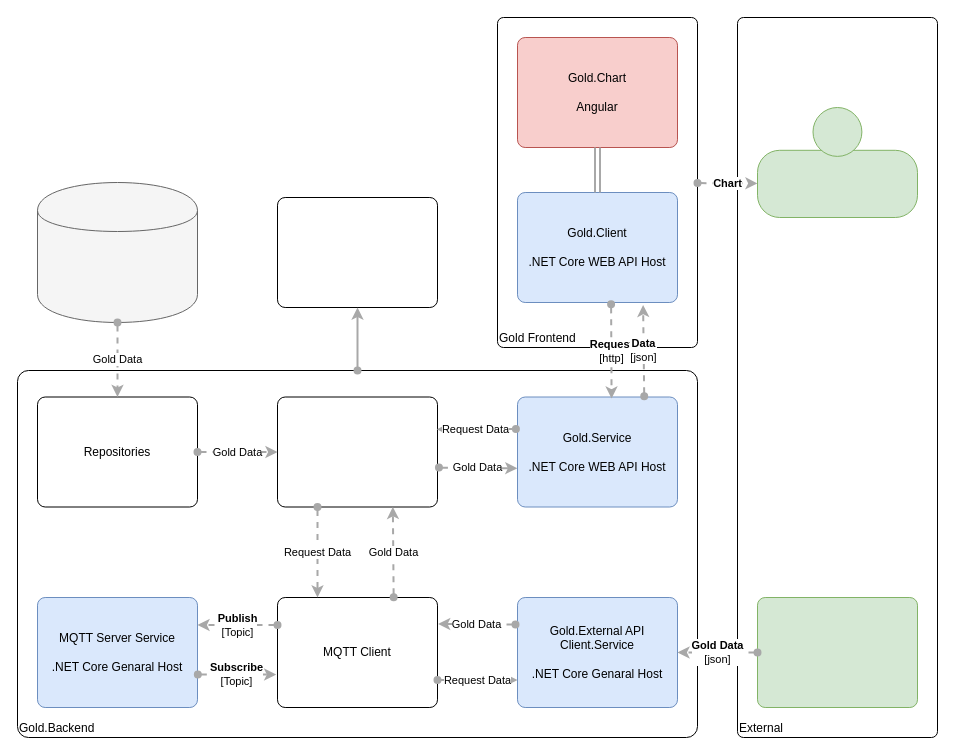
Image size: 955x755. Some labels were removed from this diagram. The shapes that lost their labels are listed below. From the top down, each one's centre as x and y in pixels, then its label:
At [837,183]: "Client Web Browser".
At [117,252]: "Gold Database [MSSQL] Backup data source".
At [357,252]: "Model [EF, JSON]".
At [357,451]: "Services".
At [837,652]: "External Gold Service".
